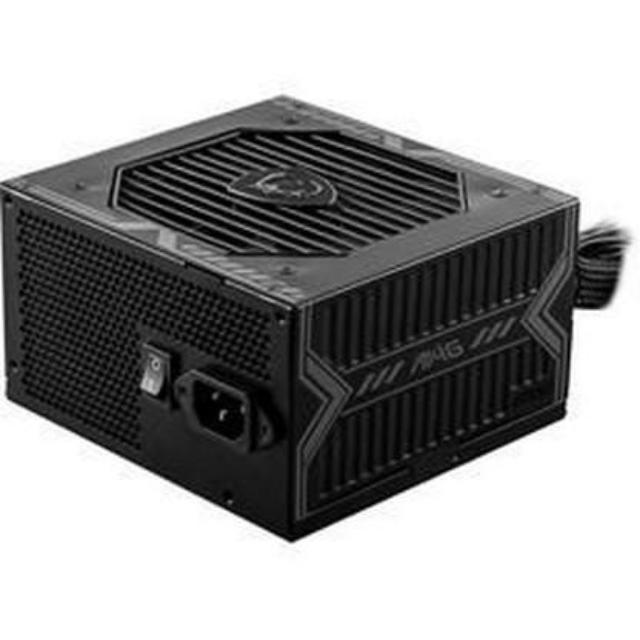PSU: (0, 88, 591, 548)
